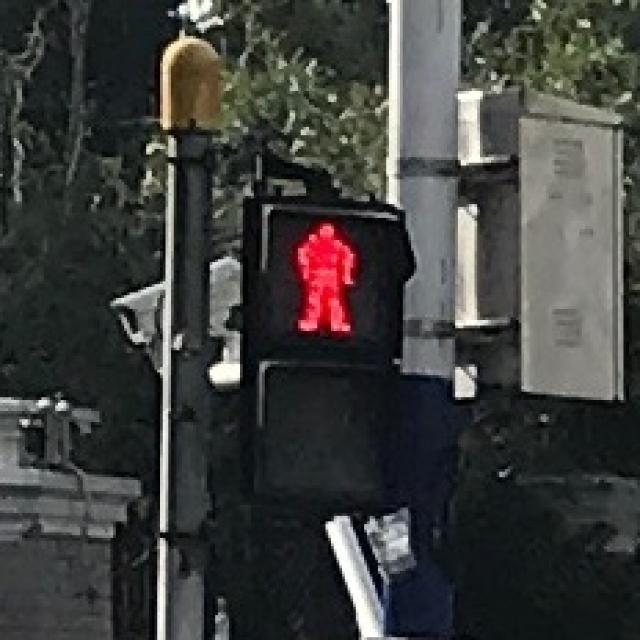red-crossing: (270, 201, 380, 342)
